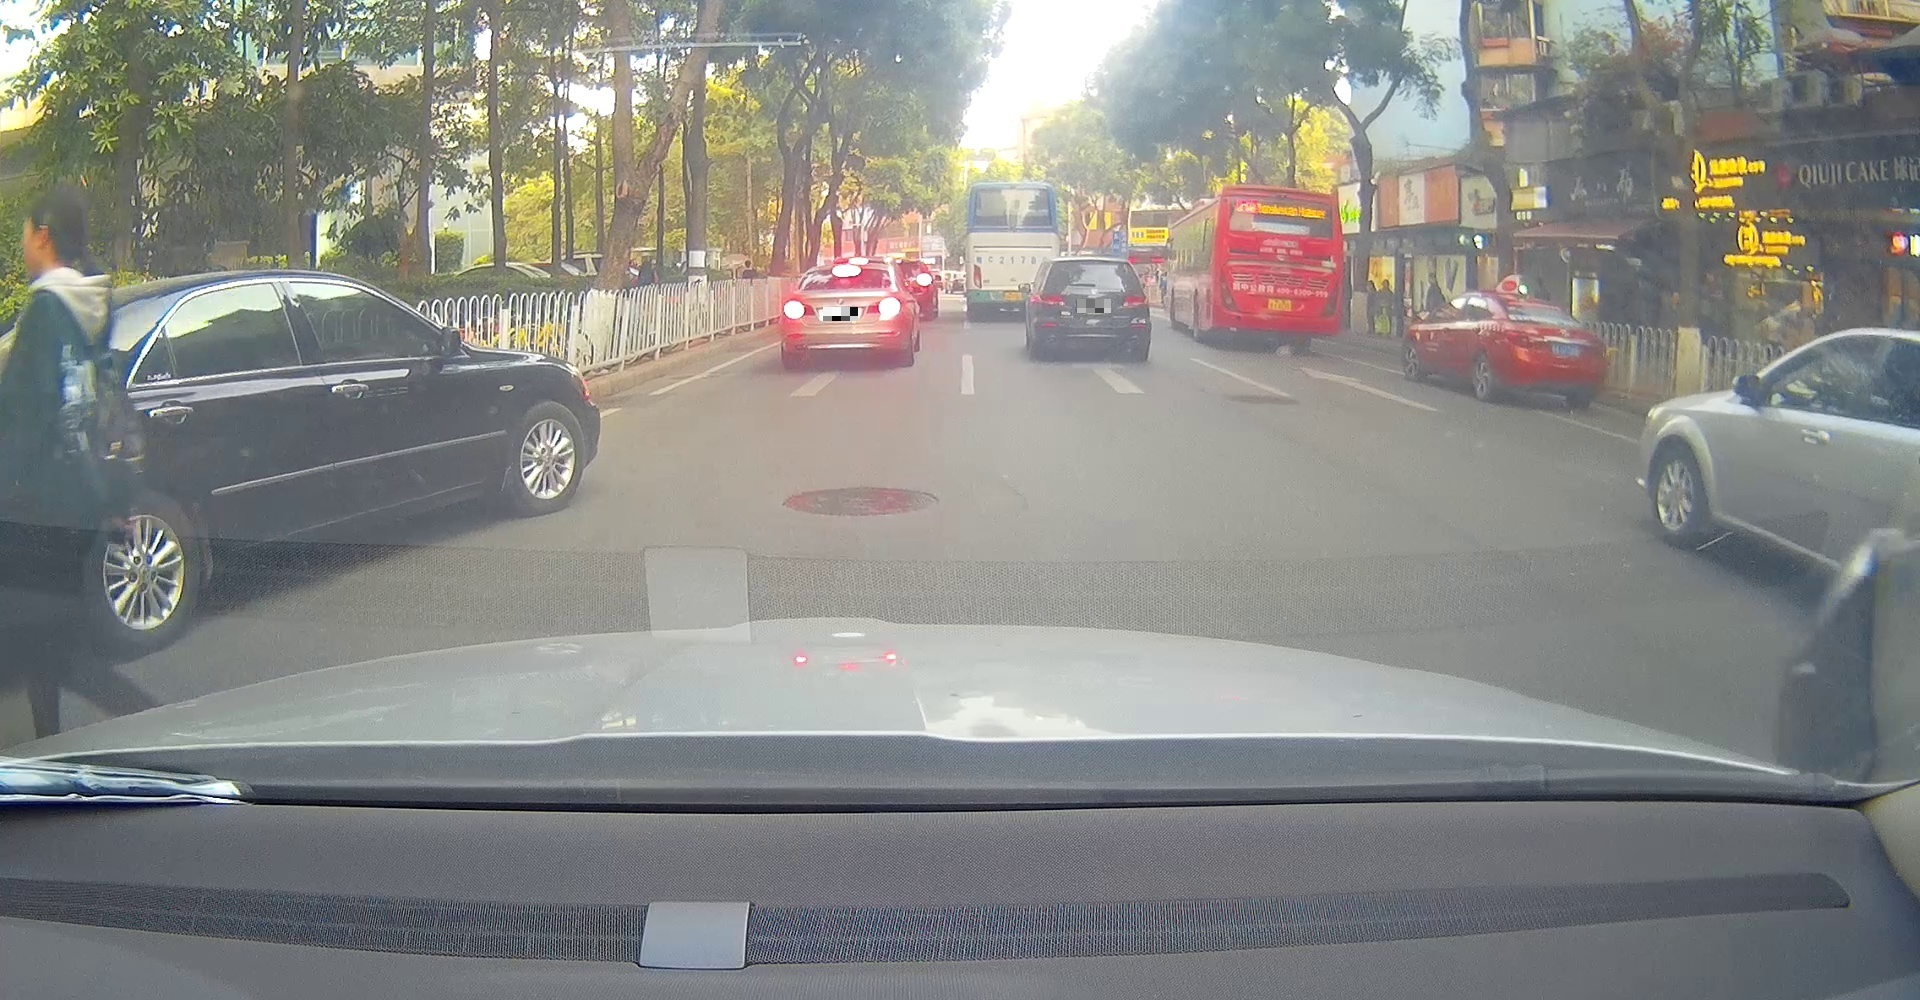L_light: (1219, 266, 1241, 312), (1503, 327, 1544, 348), (783, 299, 817, 319), (1035, 293, 1065, 306)
R_light: (1318, 280, 1340, 319), (866, 296, 902, 317), (1583, 339, 1605, 357), (1121, 294, 1149, 307)
T_light: (830, 263, 862, 277), (1275, 193, 1291, 201), (1529, 297, 1545, 305), (1081, 258, 1098, 263)
day-brake: (782, 261, 905, 369)
day-no: (1211, 183, 1343, 352), (1492, 291, 1606, 411), (1034, 256, 1150, 360)
plate_1: (823, 307, 858, 321)
plate_2: (1077, 299, 1111, 313)
